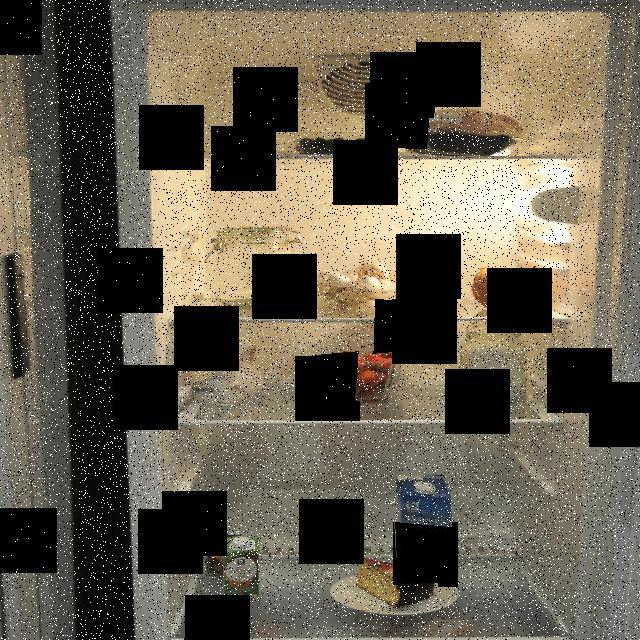blueberries: (288, 131, 378, 155)
cheese: (351, 558, 438, 612)
chicken: (392, 104, 532, 156)
corn: (206, 535, 252, 578)
flour: (205, 225, 306, 309), (174, 337, 280, 407)
heavy_cream: (222, 536, 260, 606)
milk: (392, 472, 452, 572)
mushrooms: (315, 256, 421, 318)
strawberries: (316, 352, 412, 406)
sugar: (457, 320, 528, 404)
sweet_potato: (466, 266, 550, 310), (415, 273, 461, 309)
